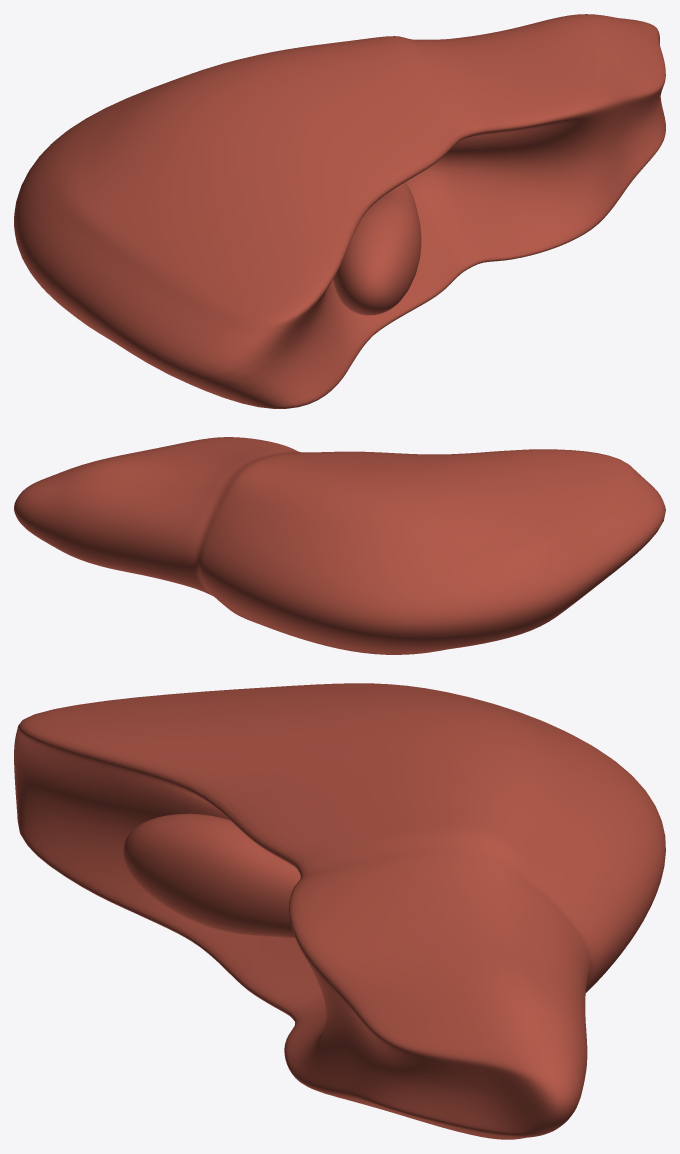
The model's file is EDU_Liver_Gallbladder_20261016.glb.
The picture shows the model from 3 angles, top to bottom: view 1: azimuth 30°, elevation 25°; view 2: azimuth 150°, elevation 25°; view 3: azimuth 270°, elevation 25°; orthographic projection. The views are drawn at different scales.
Visible parts, largest first — view 1: EDU_Liver_Gallbladder_20261016_Part_00_00; view 2: EDU_Liver_Gallbladder_20261016_Part_00_00; view 3: EDU_Liver_Gallbladder_20261016_Part_00_00.
Boxes of the visible parts, box(x1,y1,x2,y2) form: EDU_Liver_Gallbladder_20261016_Part_00_00: box(14, 14, 665, 408); EDU_Liver_Gallbladder_20261016_Part_00_00: box(14, 437, 665, 654); EDU_Liver_Gallbladder_20261016_Part_00_00: box(14, 683, 665, 1139).
Bounding box in the file's own units: 1.21 × 0.35 × 0.8508.
